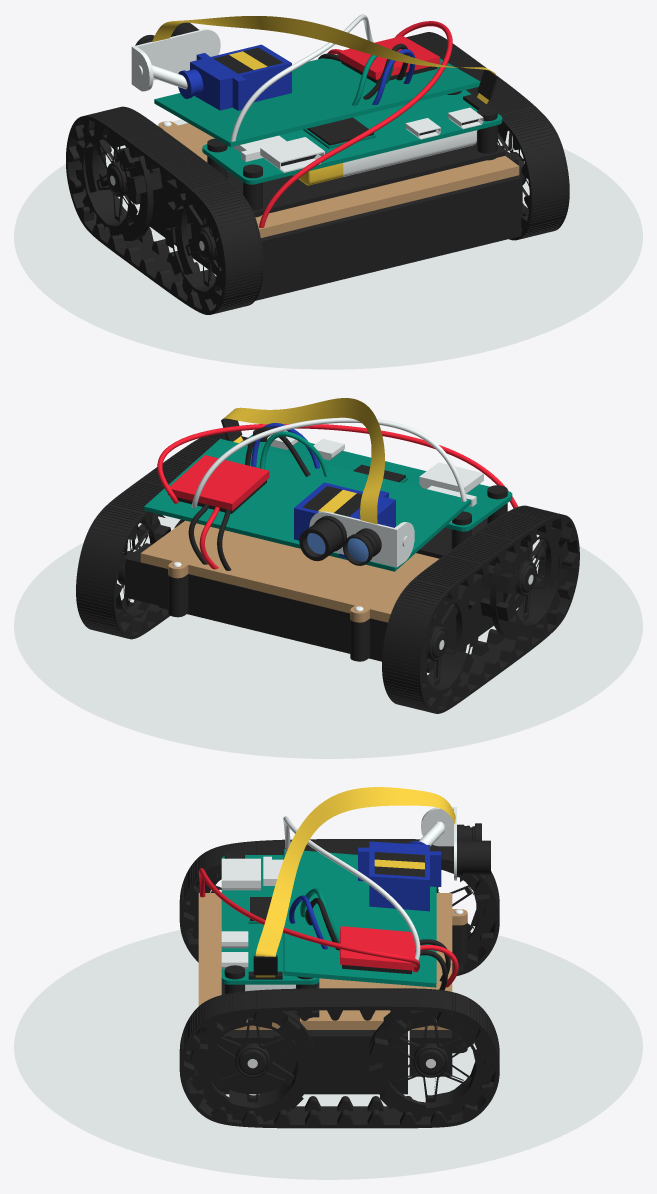
File: jerry_robot-web.glb
3 renders of one model, top to bottom at view 1: azimuth 30°, elevation 25°; view 2: azimuth 150°, elevation 25°; view 3: azimuth 270°, elevation 25°, orthographic.
Visible parts, largest first — view 1: Окружность, Куб.001, Куб, Куб.007, Куб.002, Куб.005, Куб.006, Куб.009, ТраекторияNurbs.001, Цилиндр.012, Куб.008, Цилиндр.001 (+16 smaller); view 2: Окружность, Куб.001, Куб.002, Куб.007, Куб.003, ТраекторияNurbs.001, Цилиндр.013, Куб.010, Цилиндр.001, Куб.009, Куб.005, Цилиндр.012 (+14 smaller); view 3: Окружность, Куб.001, Куб.007, Куб, Куб.002, ТраекторияNurbs.001, Куб.009, Цилиндр.005, Цилиндр.011, Цилиндр.001, Куб.005, Куб.010 (+11 smaller).
Boxes of the visible parts, x1,y1,x2,y2 form: Окружность: (14, 119, 642, 369); Куб.001: (66, 32, 569, 314); Куб: (149, 167, 522, 300); Куб.007: (154, 54, 480, 147); Куб.002: (158, 121, 519, 237); Куб.005: (202, 90, 502, 184); Куб.006: (227, 131, 505, 216); Куб.009: (190, 44, 291, 110); ТраекторияNurbs.001: (152, 16, 496, 103); Цилиндр.012: (75, 122, 162, 239); Куб.008: (131, 29, 220, 91); Цилиндр.001: (84, 125, 528, 299); Окружность: (14, 515, 642, 758); Куб.001: (76, 433, 579, 713); Куб.002: (140, 520, 439, 622); Куб.007: (144, 438, 470, 571); Куб.003: (125, 543, 439, 661); ТраекторияNurbs.001: (223, 398, 384, 524); Цилиндр.013: (480, 527, 568, 640); Куб.010: (168, 455, 269, 513); Цилиндр.001: (121, 518, 558, 698); Куб.009: (294, 482, 395, 557); Куб.005: (248, 434, 512, 531); Цилиндр.012: (422, 586, 479, 706); Окружность: (14, 929, 642, 1179); Куб.001: (179, 839, 499, 1128); Куб.007: (283, 849, 436, 987); Куб: (207, 1030, 407, 1094); Куб.002: (198, 893, 467, 1029); ТраекторияNurbs.001: (255, 787, 455, 977); Куб.009: (358, 841, 441, 911); Цилиндр.005: (191, 1011, 314, 1121); Цилиндр.011: (369, 1010, 491, 1121); Цилиндр.001: (189, 863, 492, 1116); Куб.005: (221, 855, 319, 984); Куб.010: (340, 926, 414, 974).
Size of the model in its own units: 12.86 by 5.16 by 12.86.
